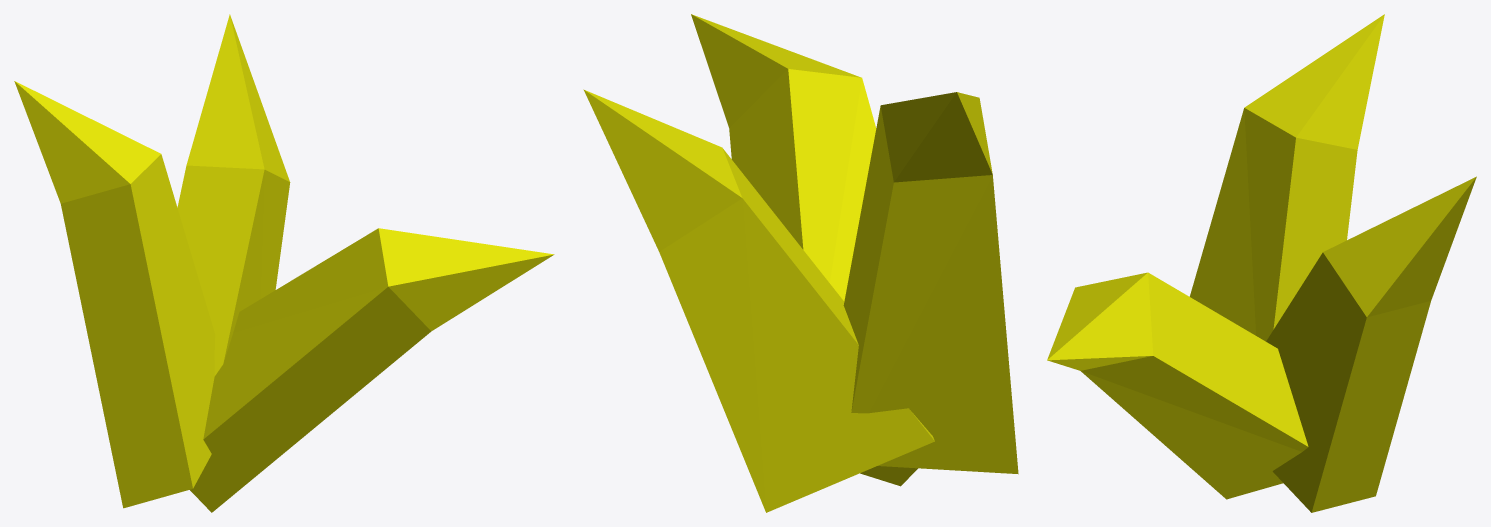
File: SM_Env_Grass_01.glb
3 views of the same model, side by side, from view 1: azimuth 30°, elevation 25°; view 2: azimuth 150°, elevation 25°; view 3: azimuth 270°, elevation 25° (orthographic). The views are drawn at different scales.
Visible parts, largest first — view 1: SM_Env_Grass_01; view 2: SM_Env_Grass_01; view 3: SM_Env_Grass_01.
Boxes of the visible parts, <box> form: SM_Env_Grass_01: <box>14,14,554,512</box>; SM_Env_Grass_01: <box>583,14,1018,512</box>; SM_Env_Grass_01: <box>1047,14,1476,512</box>.
Bounding box in the file's own units: 0.2987 × 0.3063 × 0.2817.
1 material, 1 textured.
